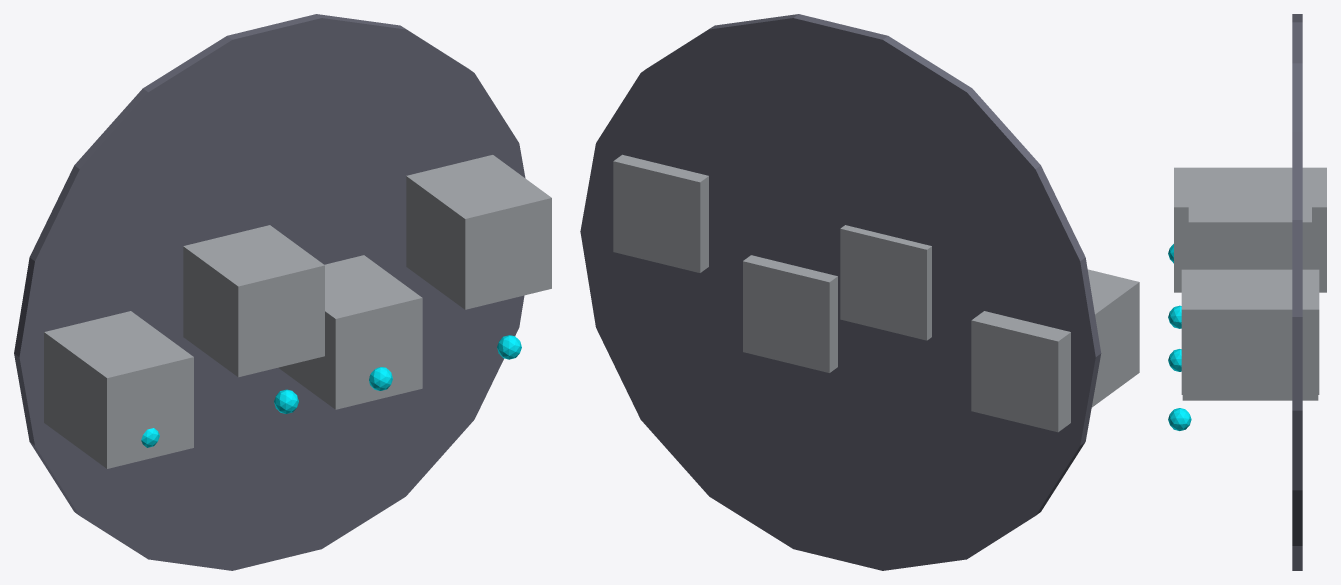
The model's file is 02_local_prop_cluster.glb.
3 renders of one model, left to right at view 1: azimuth 30°, elevation 25°; view 2: azimuth 150°, elevation 25°; view 3: azimuth 270°, elevation 25°, orthographic. The views are drawn at different scales.
Parts seen in each view (by area): view 1: scatter_base, tech_crate_0, tech_crate_3, tech_crate_1, tech_crate_2; view 2: scatter_base, tech_crate_0, tech_crate_3, tech_crate_2, tech_crate_1; view 3: tech_crate_3, tech_crate_1, scatter_base, tech_crate_0, tech_crate_2, status_light_3, status_light_1, status_light_2.
Boxes of the visible parts, x1,y1,x2,y2 form: scatter_base: [14, 14, 525, 570]; tech_crate_0: [44, 311, 193, 468]; tech_crate_3: [406, 155, 551, 309]; tech_crate_1: [183, 225, 324, 377]; tech_crate_2: [278, 255, 422, 409]; scatter_base: [580, 14, 1101, 570]; tech_crate_0: [971, 269, 1139, 432]; tech_crate_3: [613, 154, 708, 272]; tech_crate_2: [743, 255, 837, 372]; tech_crate_1: [840, 225, 931, 340]; tech_crate_3: [1181, 269, 1319, 394]; tech_crate_1: [1188, 182, 1311, 269]; scatter_base: [1292, 14, 1302, 570]; tech_crate_0: [1174, 167, 1326, 292]; tech_crate_2: [1182, 395, 1318, 400]; status_light_3: [1168, 408, 1191, 430]; status_light_1: [1168, 305, 1181, 328]; status_light_2: [1168, 349, 1181, 371].
Size of the model in its own units: 1.9 by 1.87 by 0.5398.
